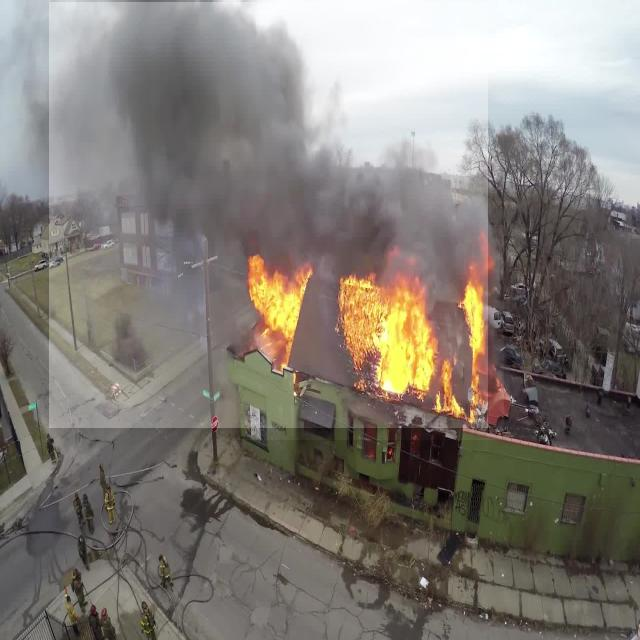Fire: (244, 225, 504, 440)
Smoke: (49, 2, 488, 428)
